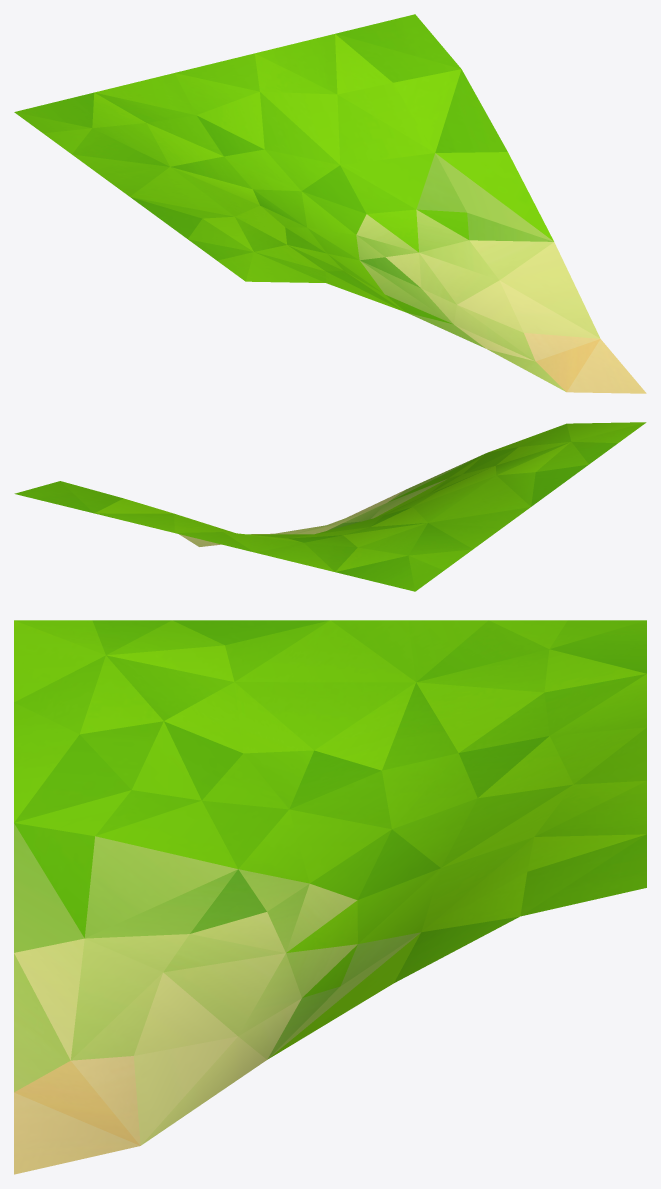
File: GL-Terrain-part-20.fbx
The picture shows the model from 3 angles, top to bottom: view 1: azimuth 30°, elevation 25°; view 2: azimuth 150°, elevation 25°; view 3: azimuth 270°, elevation 25°; orthographic projection. The views are drawn at different scales.
Visible parts, largest first — view 1: GL-Terrain-part-20; view 2: GL-Terrain-part-20; view 3: GL-Terrain-part-20.
Boxes of the visible parts, left/top/right/bottom form: GL-Terrain-part-20: left=14, top=14, right=646, bottom=393; GL-Terrain-part-20: left=14, top=422, right=646, bottom=591; GL-Terrain-part-20: left=14, top=620, right=646, bottom=1174.
Bounding box in the file's own units: 6 × 3 × 6.
